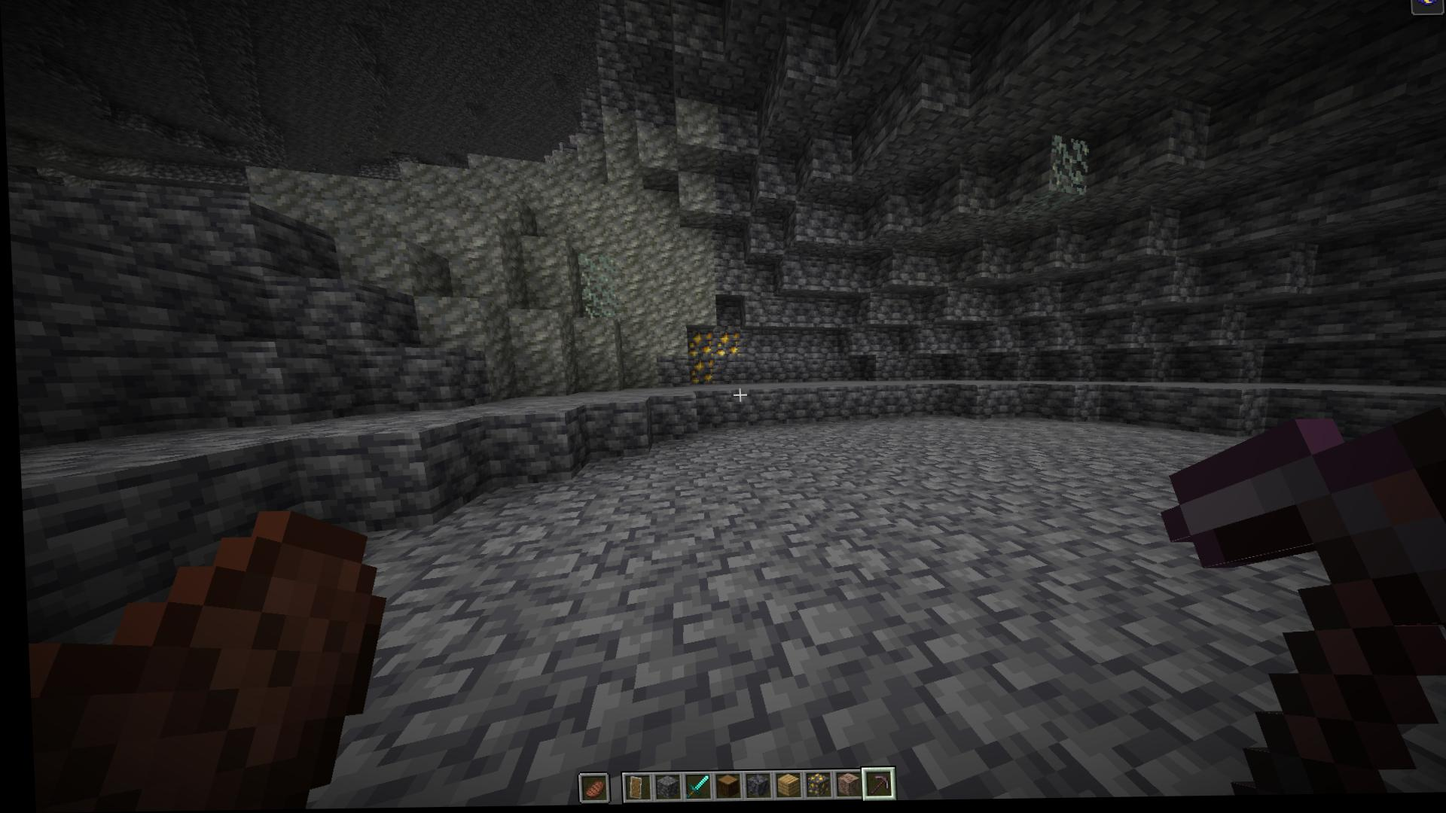gold ore: (710, 327, 740, 363), (677, 328, 710, 359), (685, 359, 714, 390)
